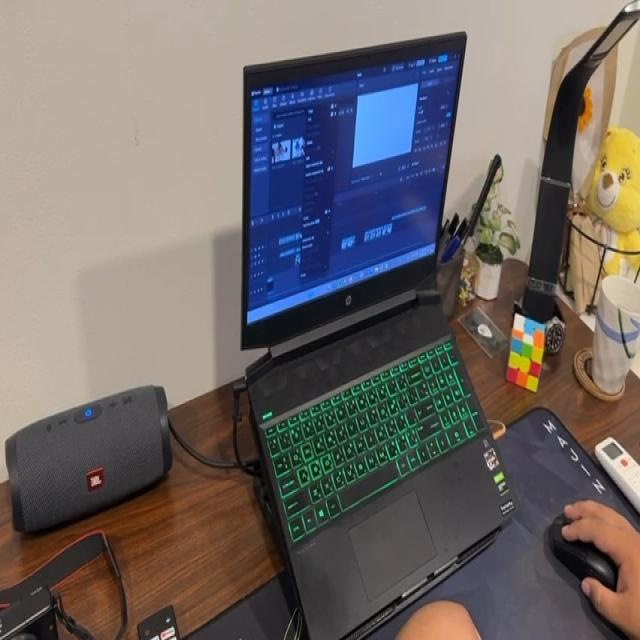laptop_computer: (203, 23, 520, 640)
mouse: (538, 502, 634, 612)
